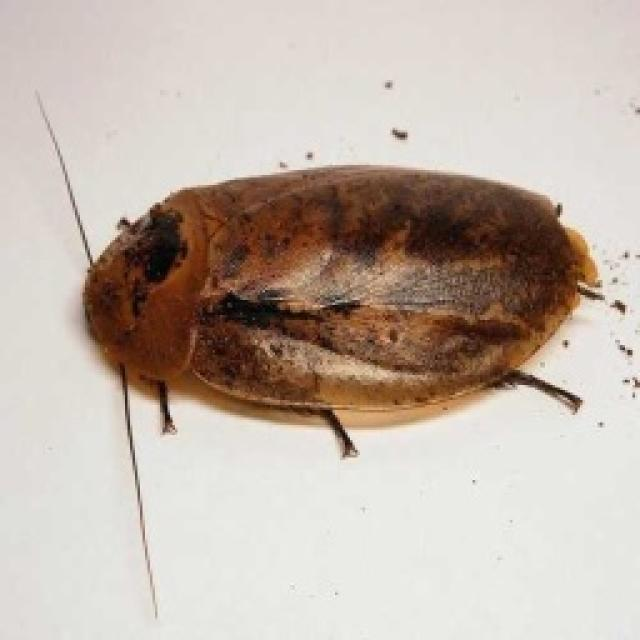cockroach: (62, 152, 621, 486)
